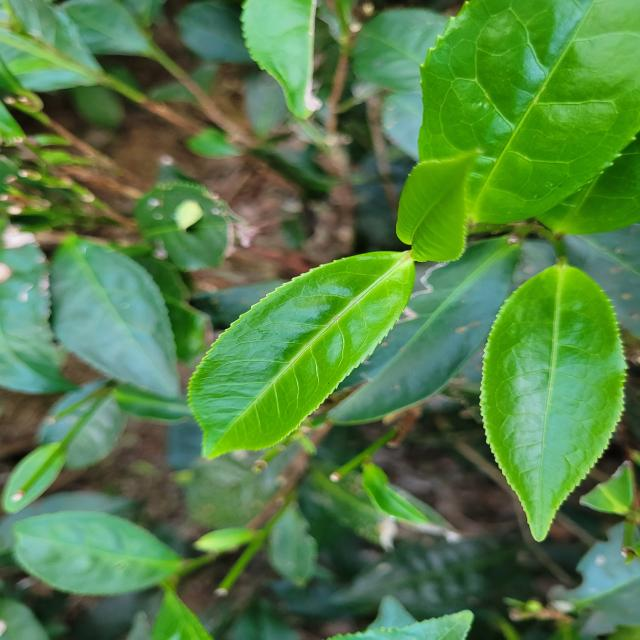Catagory A(1-2 days): (351, 140, 493, 276)
